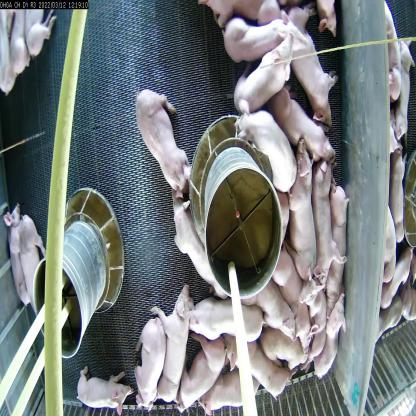Pig: (133, 79, 192, 195), (235, 98, 297, 193), (285, 7, 337, 118), (220, 325, 291, 402), (274, 84, 335, 171), (270, 249, 316, 358), (232, 35, 296, 112), (213, 8, 293, 69), (288, 142, 322, 278), (238, 269, 298, 345), (186, 288, 266, 343), (174, 338, 229, 415), (154, 284, 188, 406), (75, 358, 138, 416), (310, 158, 337, 288), (131, 318, 166, 415), (261, 326, 314, 377), (317, 296, 345, 392), (18, 200, 42, 310), (200, 372, 259, 415), (4, 201, 26, 311), (330, 181, 349, 302), (304, 281, 328, 364)
